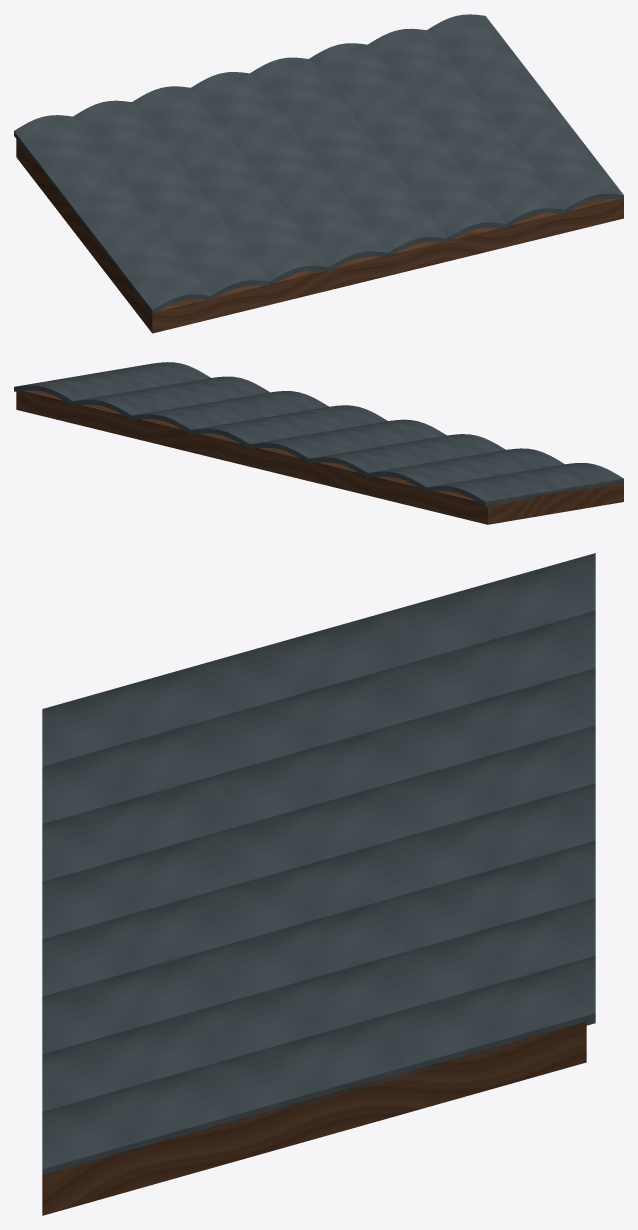
The model's file is roof_eave.glb.
3 views of the same model, one above another, from view 1: azimuth 30°, elevation 25°; view 2: azimuth 150°, elevation 25°; view 3: azimuth 270°, elevation 25° (orthographic). The views are drawn at different scales.
Parts seen in each view (by area): view 1: roof_eave; view 2: roof_eave; view 3: roof_eave.
Boxes of the visible parts, x1,y1,x2,y2 form: roof_eave: (14, 14, 623, 333); roof_eave: (14, 362, 623, 524); roof_eave: (42, 553, 595, 1215).
Bounding box in the file's own units: 1.8 × 0.3957 × 0.915.
2 materials, 2 textured.
